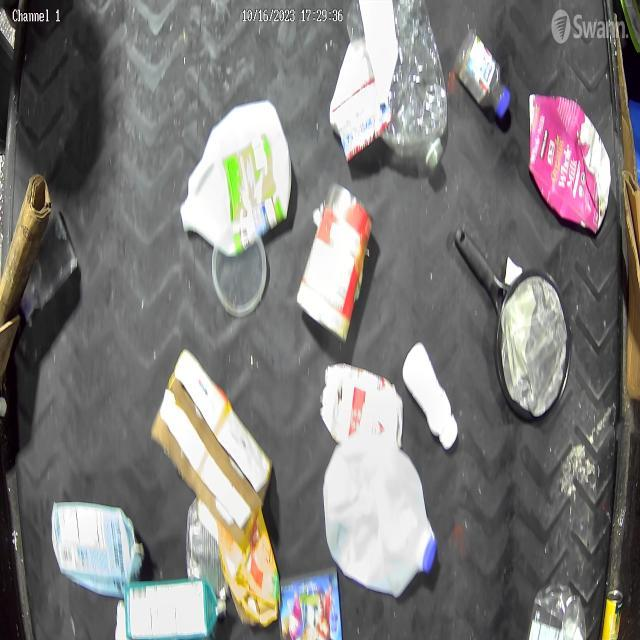can: (298, 176, 374, 342)
milk_jug: (320, 437, 439, 602), (177, 96, 292, 255)
plastic_bottle: (350, 0, 448, 176)
